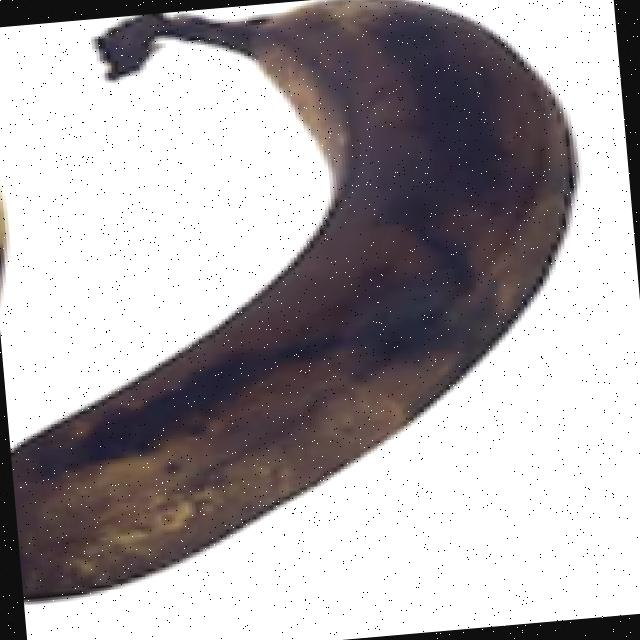Rotten: (0, 0, 630, 619)
